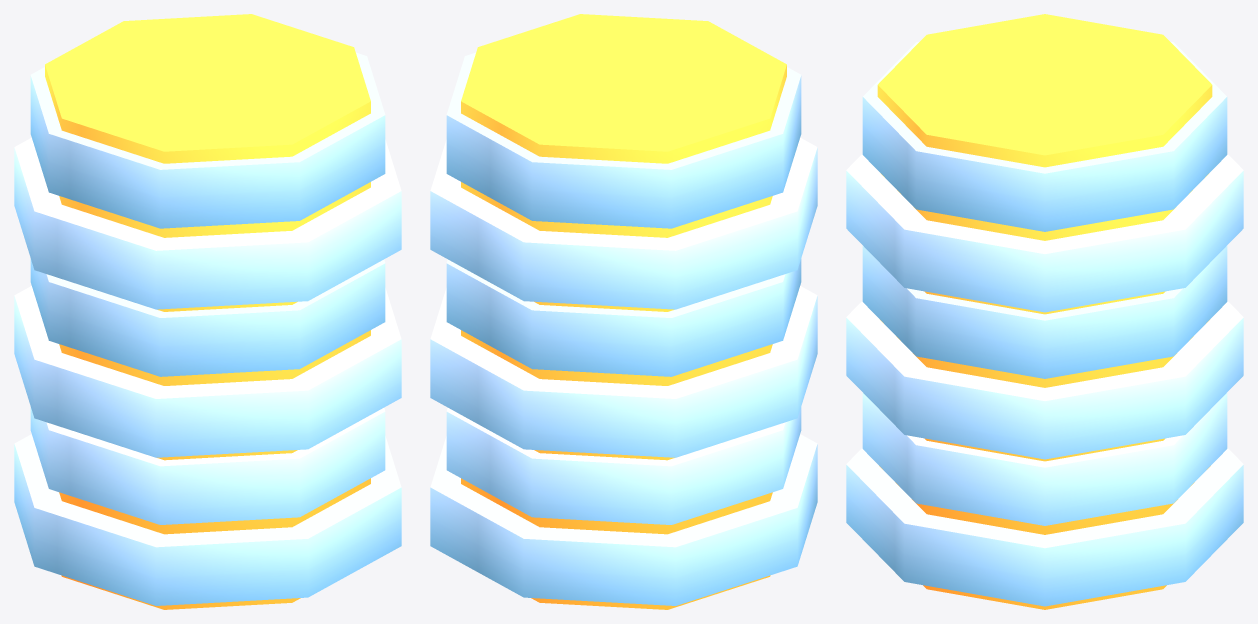
File: gold_and_steel_grip_049.glb
The picture shows the model from 3 angles, left to right: view 1: azimuth 30°, elevation 25°; view 2: azimuth 150°, elevation 25°; view 3: azimuth 270°, elevation 25°; orthographic projection.
Visible parts, largest first — view 1: gold_and_steel_grip_049; view 2: gold_and_steel_grip_049; view 3: gold_and_steel_grip_049.
Part boxes in pixels (x1,y1,x2,y2): gold_and_steel_grip_049: [14, 14, 401, 609]; gold_and_steel_grip_049: [430, 14, 817, 609]; gold_and_steel_grip_049: [846, 14, 1243, 609].
Size of the model in its own units: 2.38 by 3 by 2.38.
1 material, 1 textured.
